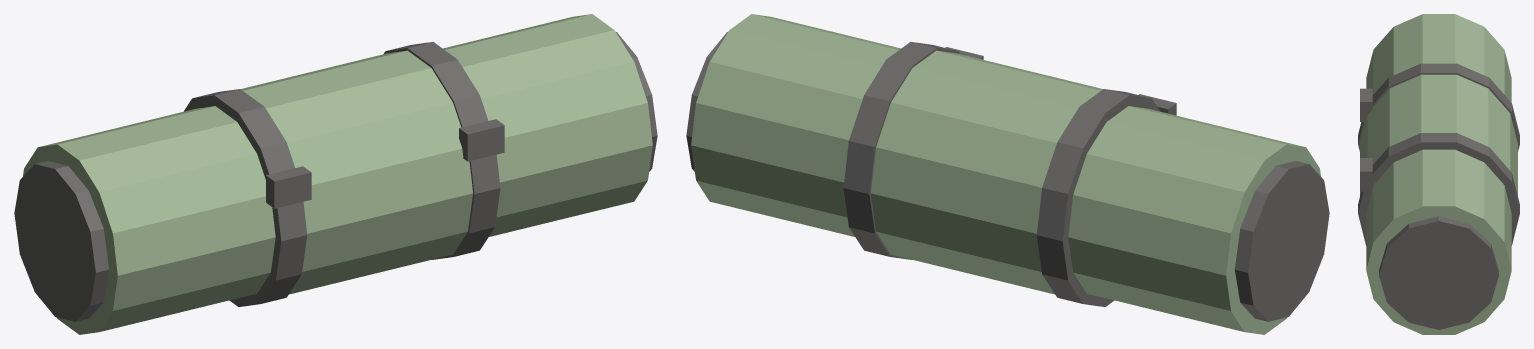
File: greeble_tarp.glb
The picture shows the model from 3 angles, left to right: view 1: azimuth 30°, elevation 25°; view 2: azimuth 150°, elevation 25°; view 3: azimuth 270°, elevation 25°; orthographic projection. The views are drawn at different scales.
Visible parts, largest first — view 1: stowage_tarp, stowage_tarp_trim_dark; view 2: stowage_tarp, stowage_tarp_trim_dark; view 3: stowage_tarp, stowage_tarp_trim_dark.
Part boxes in pixels (left/top/right/bottom): stowage_tarp: left=23, top=14, right=652, bottom=334; stowage_tarp_trim_dark: left=14, top=32, right=657, bottom=321; stowage_tarp: left=691, top=14, right=1320, bottom=334; stowage_tarp_trim_dark: left=686, top=32, right=1329, bottom=321; stowage_tarp: left=1360, top=14, right=1517, bottom=334; stowage_tarp_trim_dark: left=1358, top=63, right=1519, bottom=329.
Size of the model in its own units: 0.756 by 0.2496 by 0.256.
